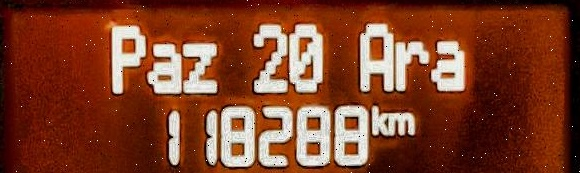0: (287, 18, 324, 94)
1: (161, 101, 184, 168), (199, 101, 220, 172)
2: (248, 20, 288, 102), (256, 103, 291, 169)
8: (333, 100, 368, 169), (295, 102, 329, 171), (220, 101, 253, 171)
X: (103, 20, 146, 102), (355, 17, 392, 92), (431, 34, 470, 100), (180, 37, 219, 99), (144, 34, 181, 98), (393, 35, 426, 93), (369, 103, 387, 142), (389, 113, 414, 138)
